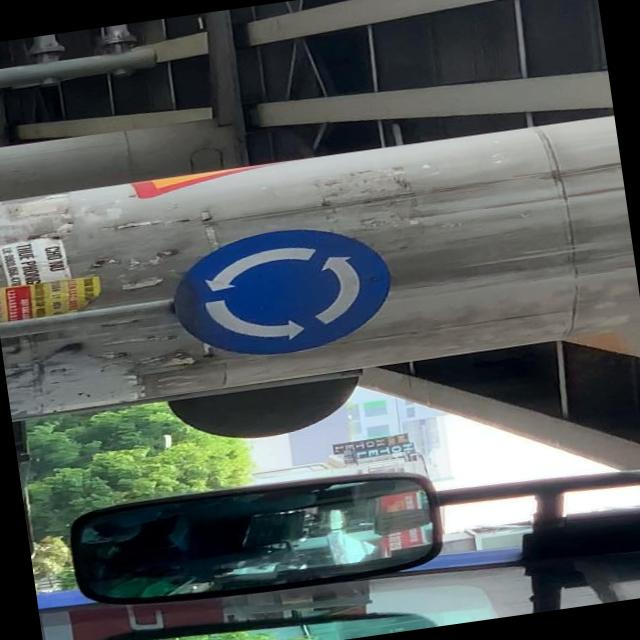R-303: (166, 216, 399, 368)
